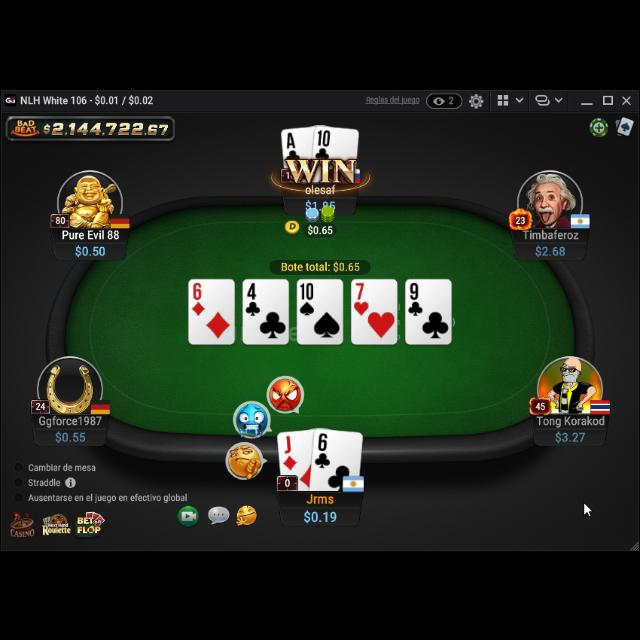4c: (244, 278, 262, 316)
6c: (314, 428, 332, 468)
6d: (190, 280, 206, 314)
7h: (352, 278, 370, 314)
9c: (406, 279, 424, 315)
Ac: (284, 128, 302, 158), (284, 128, 300, 158)
Jd: (282, 432, 298, 468)
Tc: (314, 126, 332, 156)
Ts: (298, 279, 316, 315)
bet_text: (306, 222, 334, 232)
dealer: (284, 216, 300, 232)
pot_text: (280, 258, 362, 270)
stack_text: (304, 195, 336, 215), (302, 508, 338, 524), (553, 426, 587, 442), (304, 194, 336, 210), (74, 243, 106, 257), (534, 244, 566, 258), (304, 195, 336, 209), (55, 426, 87, 439), (306, 223, 334, 234)
